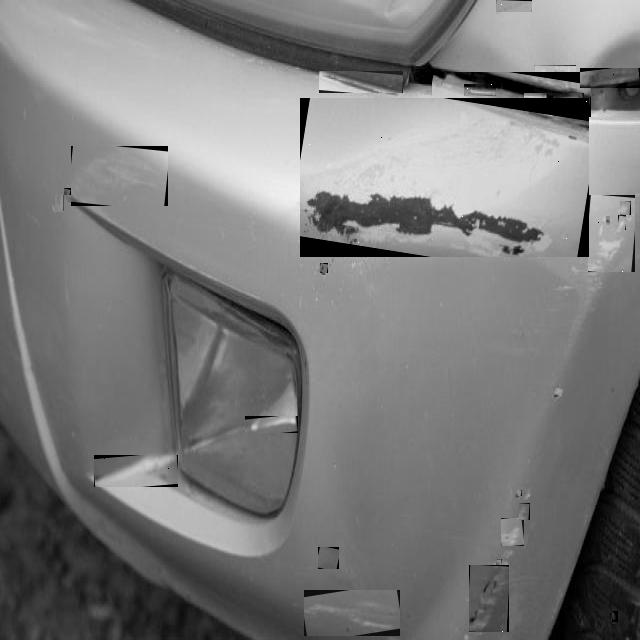Dent: (300, 98, 589, 257), (432, 72, 591, 117), (71, 146, 168, 206), (304, 590, 400, 636), (488, 104, 567, 150), (588, 195, 635, 272), (94, 455, 178, 487), (469, 565, 509, 632), (514, 207, 566, 245), (319, 71, 403, 93), (580, 68, 640, 88), (245, 416, 298, 433), (534, 65, 576, 84), (501, 518, 524, 546), (318, 547, 339, 569), (496, 0, 532, 12), (464, 84, 496, 96), (553, 93, 584, 105), (350, 233, 371, 248), (433, 191, 450, 209), (471, 608, 482, 626), (519, 503, 530, 520), (524, 93, 547, 101), (484, 576, 493, 594), (620, 201, 631, 215), (55, 196, 64, 213), (479, 210, 490, 222), (618, 215, 626, 230), (361, 245, 370, 255), (320, 263, 328, 273), (612, 612, 618, 624), (555, 388, 563, 396), (563, 111, 572, 117), (64, 188, 71, 195), (494, 578, 498, 590), (497, 559, 502, 566), (517, 490, 522, 496), (606, 216, 610, 222)
